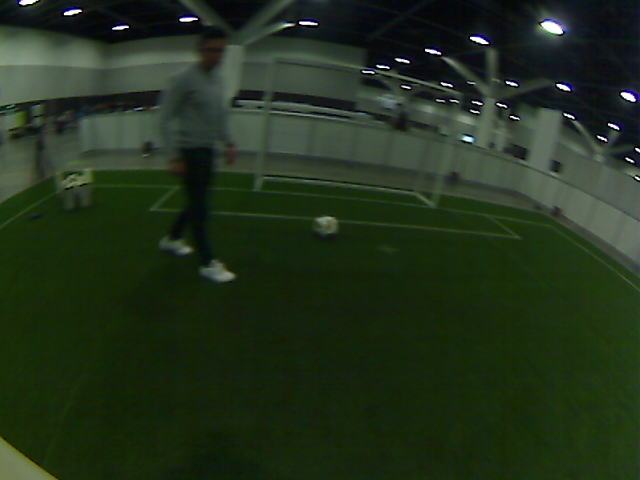ball: (307, 205, 347, 245)
goalpost: (419, 150, 449, 210), (247, 134, 266, 190)
robot: (64, 162, 93, 206)
